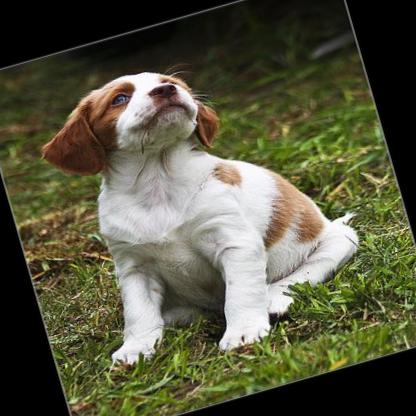Brittany_spaniel: (22, 22, 378, 391)
